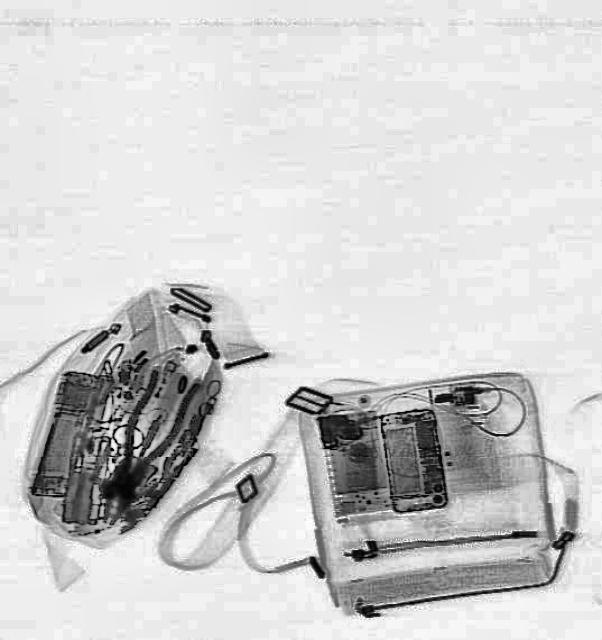Pliers: (79, 362, 203, 536)
